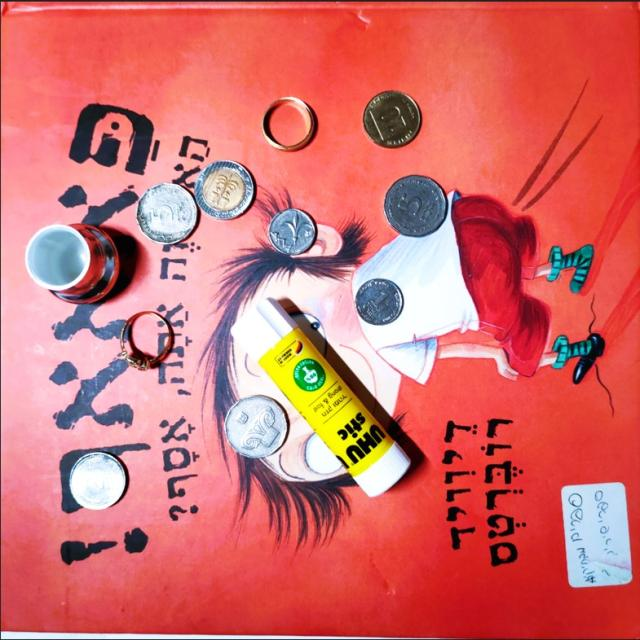1-shekel: (353, 278, 409, 330), (267, 208, 321, 260)
10-shekel: (195, 161, 252, 220)
2-shekel: (71, 453, 129, 517)
5-shekel: (224, 393, 284, 469), (384, 175, 456, 238), (137, 182, 204, 246)
